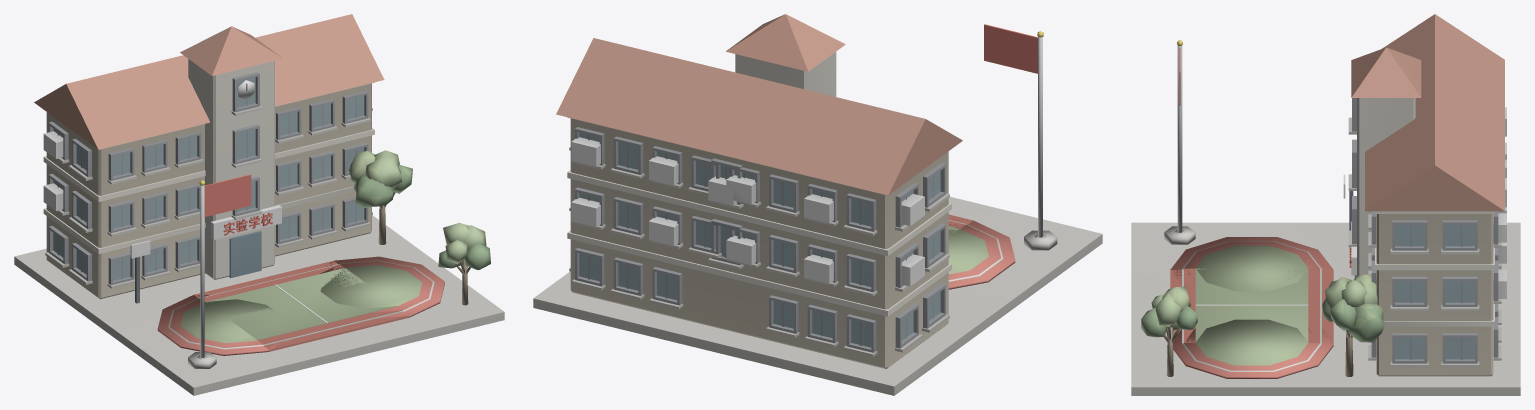
File: school.glb
3 views of the same model, side by side, from view 1: azimuth 30°, elevation 25°; view 2: azimuth 150°, elevation 25°; view 3: azimuth 270°, elevation 25° (orthographic). The views are drawn at different scales.
Visible parts, largest first — view 1: school; view 2: school; view 3: school.
Part boxes in pixels (box(x1,y1,x2,y2)): school: box(14, 14, 504, 395); school: box(533, 14, 1102, 395); school: box(1131, 14, 1520, 395).
Size of the model in its own units: 2.04 by 1.51 by 2.
